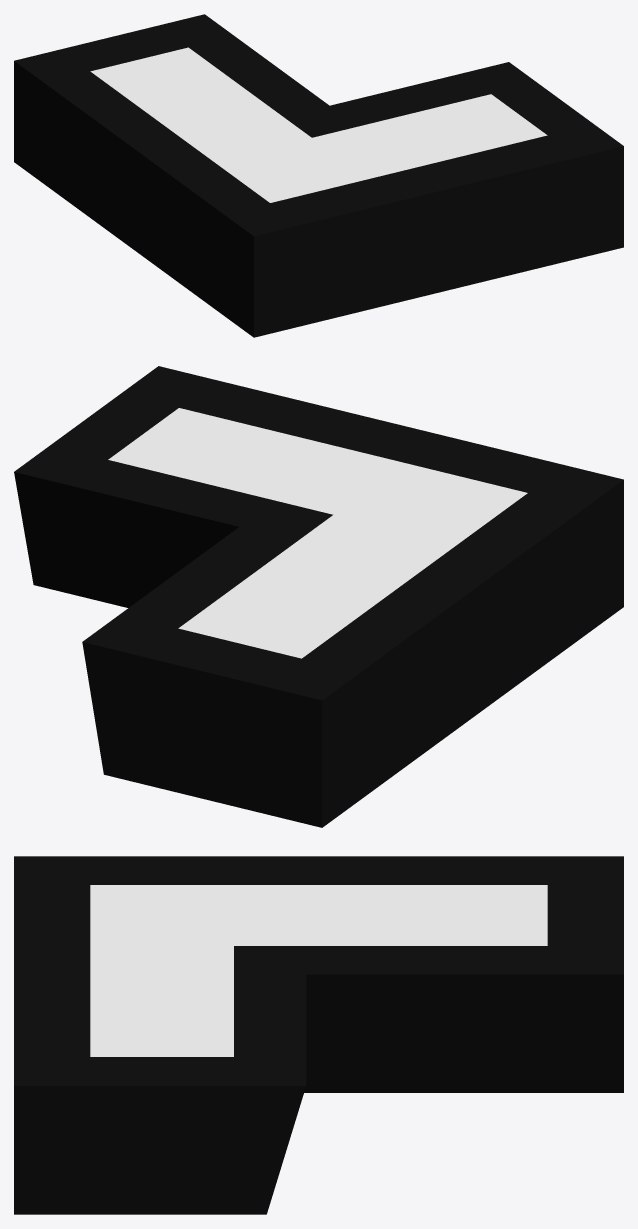
The model's file is Font_Letter_L_01.fbx.
3 views of the same model, one above another, from view 1: azimuth 30°, elevation 25°; view 2: azimuth 150°, elevation 25°; view 3: azimuth 270°, elevation 25° (orthographic). The views are drawn at different scales.
Parts seen in each view (by area): view 1: Font_Letter_L_01; view 2: Font_Letter_L_01; view 3: Font_Letter_L_01.
Boxes of the visible parts, left/top/right/bottom form: Font_Letter_L_01: left=14, top=14, right=623, bottom=337; Font_Letter_L_01: left=14, top=366, right=623, bottom=827; Font_Letter_L_01: left=14, top=856, right=623, bottom=1214.
Bounding box in the file's own units: 74.41 × 19.48 × 83.57.
